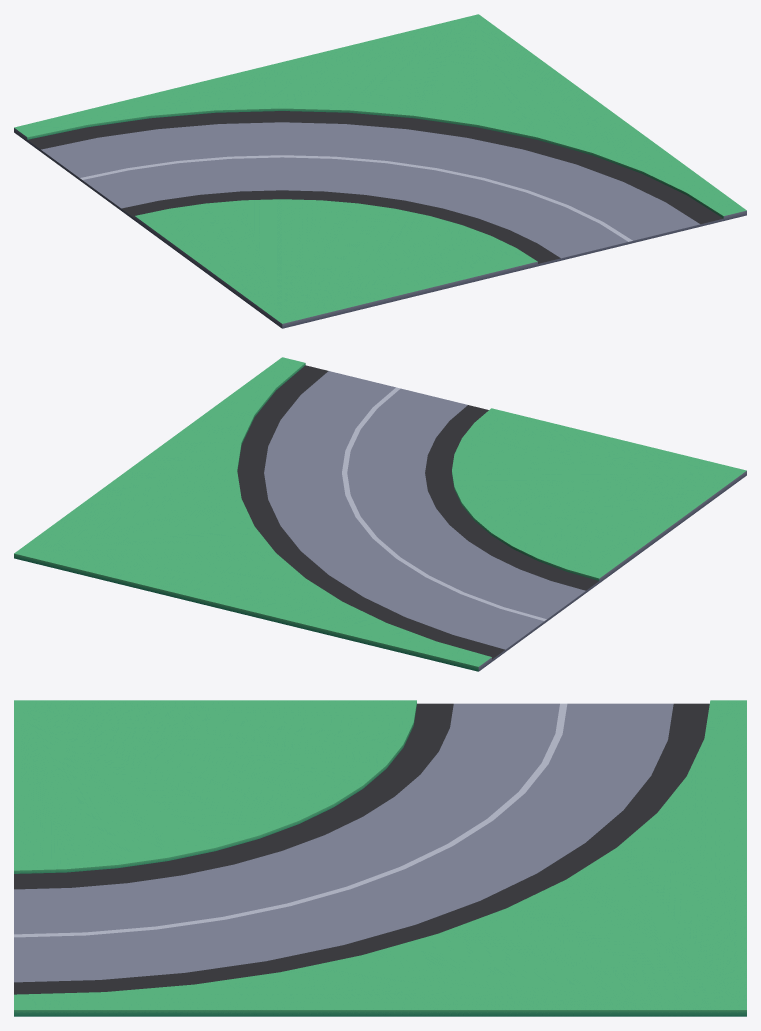
File: road_curve_pavement.glb
The picture shows the model from 3 angles, top to bottom: view 1: azimuth 30°, elevation 25°; view 2: azimuth 150°, elevation 25°; view 3: azimuth 270°, elevation 25°; orthographic projection. The views are drawn at different scales.
Visible parts, largest first — view 1: road-curve-pavement; view 2: road-curve-pavement; view 3: road-curve-pavement.
Part boxes in pixels (x1=…): road-curve-pavement: x1=14, y1=14, x2=746, y2=328; road-curve-pavement: x1=14, y1=357, x2=746, y2=671; road-curve-pavement: x1=14, y1=700, x2=746, y2=1016.
Size of the model in its own units: 2 by 0.02 by 2.
Materials: 1 (1 with a texture image).
